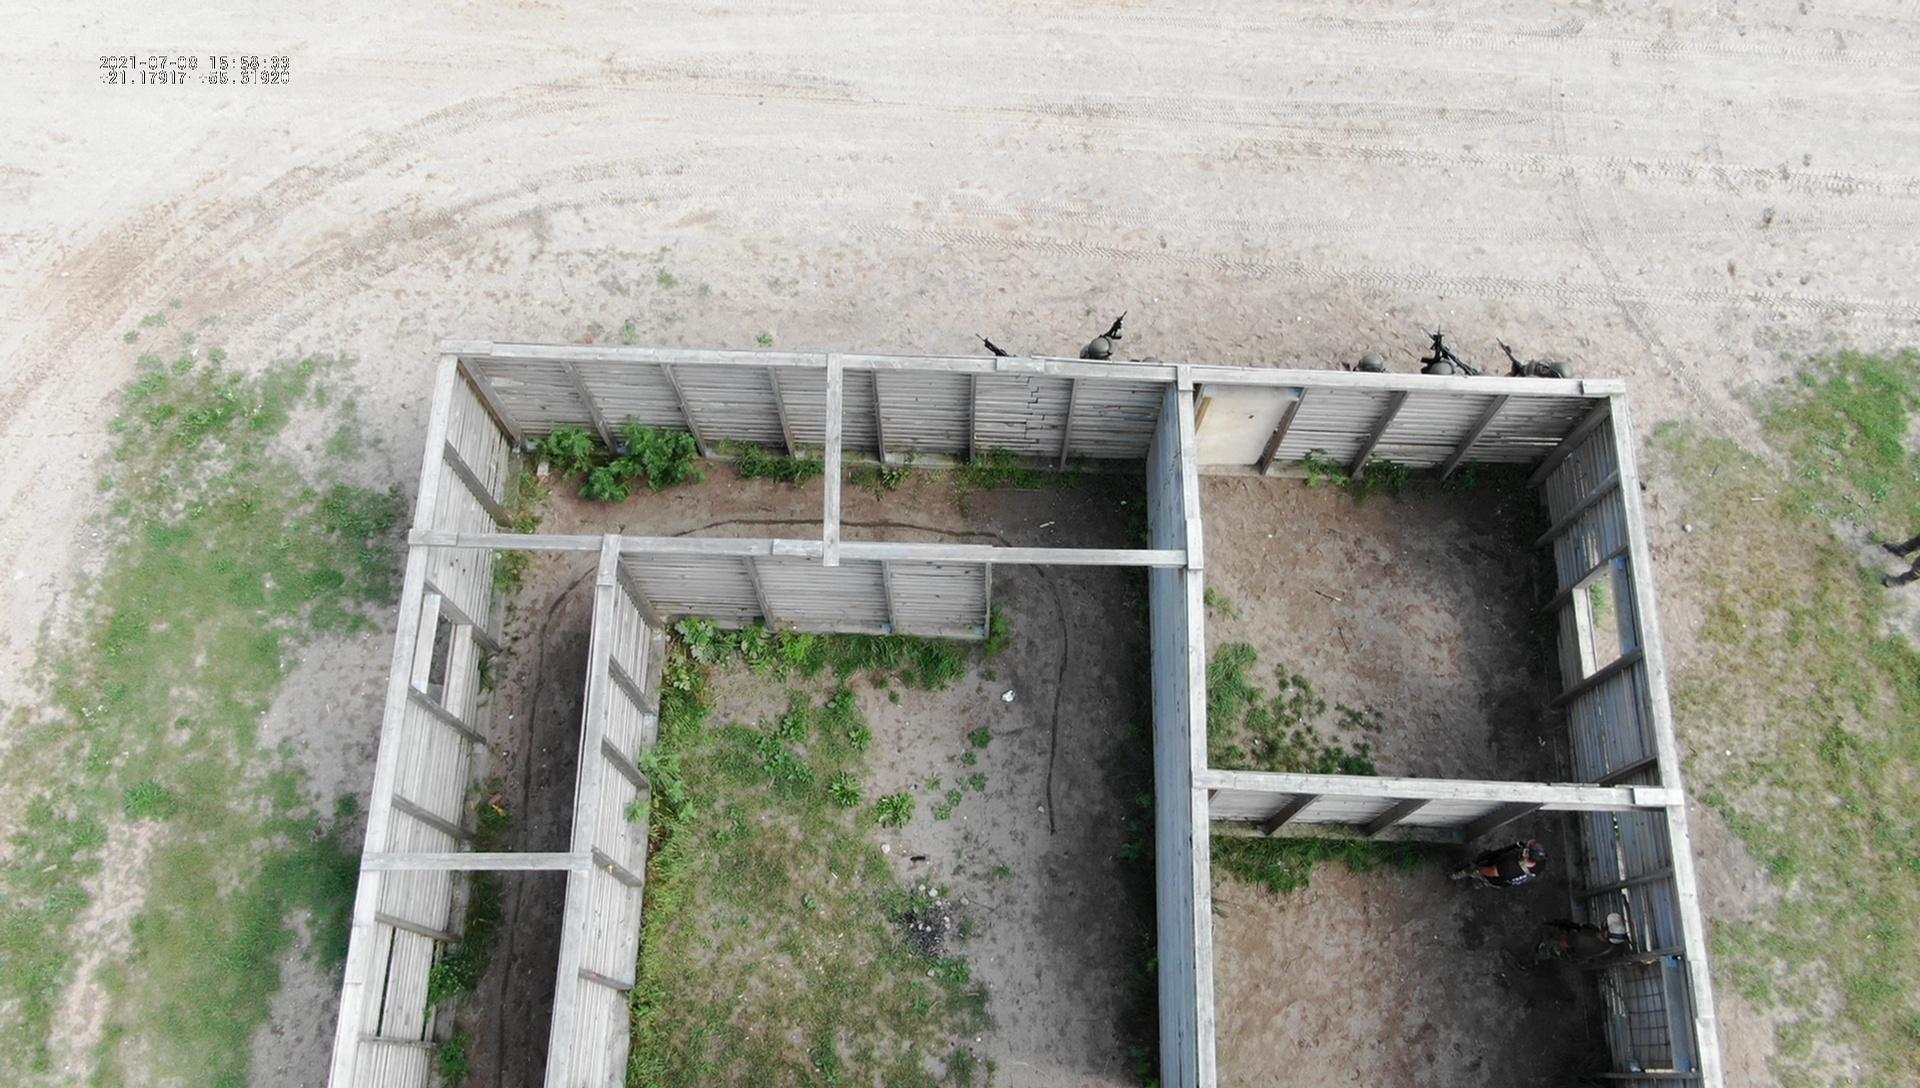Soldier: (1497, 911, 1623, 1019), (1462, 833, 1548, 938), (1095, 310, 1163, 363), (1518, 346, 1572, 382), (1420, 324, 1453, 384), (1464, 327, 1498, 380)
